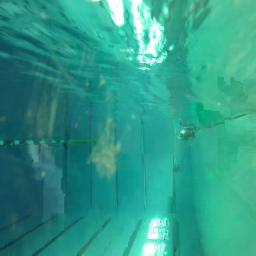Full: (179, 127, 195, 141), (173, 163, 184, 173)
